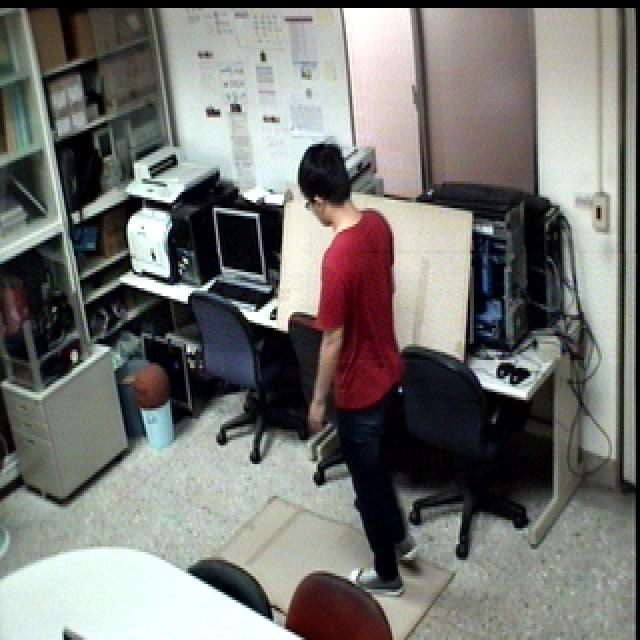stand: (275, 134, 427, 601)
